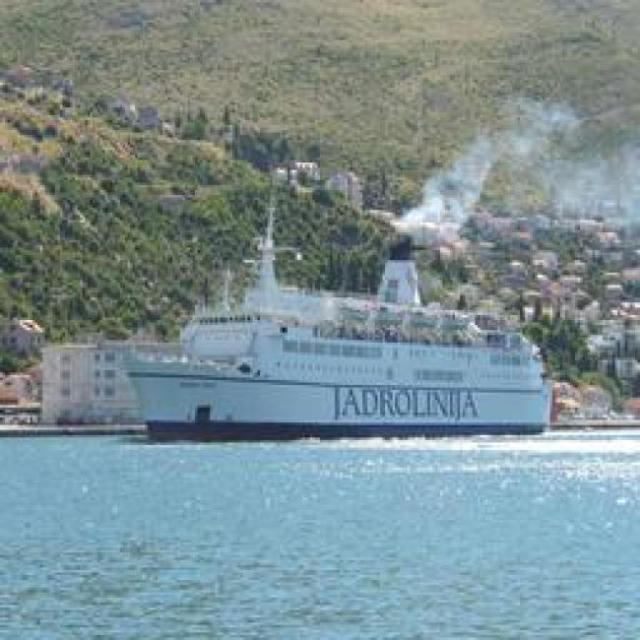boat: (96, 273, 575, 453)
